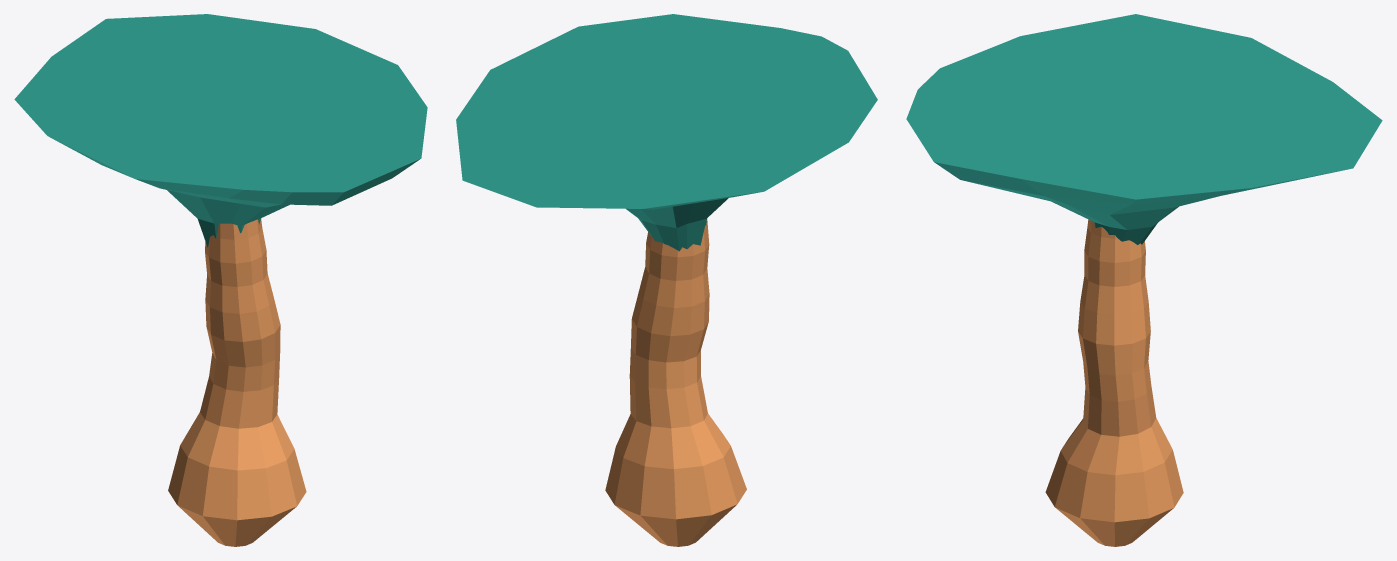
File: fungus_1.glb
3 views of the same model, side by side, from view 1: azimuth 30°, elevation 25°; view 2: azimuth 150°, elevation 25°; view 3: azimuth 270°, elevation 25° (orthographic). The views are drawn at different scales.
Parts seen in each view (by area): view 1: head, base; view 2: head, base; view 3: head, base.
Part boxes in pixels (bbox=[...]): head: bbox=[14, 14, 427, 247]; base: bbox=[168, 219, 306, 546]; head: bbox=[456, 14, 877, 251]; base: bbox=[605, 218, 746, 546]; head: bbox=[906, 14, 1382, 244]; base: bbox=[1045, 219, 1183, 546].
Bounding box in the file's own units: 24.86 × 30.11 × 29.27.
